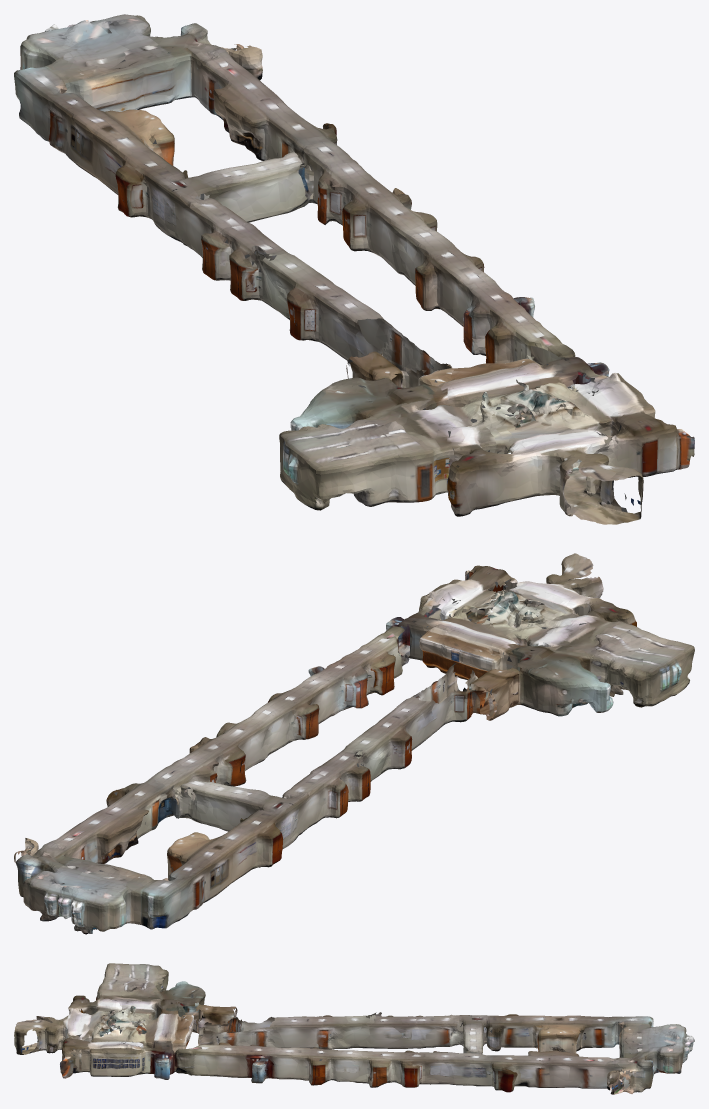
The model's file is Scaniverse_2023_10_03_164351.obj.
3 views of the same model, one above another, from view 1: azimuth 30°, elevation 25°; view 2: azimuth 150°, elevation 25°; view 3: azimuth 270°, elevation 25° (orthographic). The views are drawn at different scales.
Parts seen in each view (by area): view 1: mesh; view 2: mesh; view 3: mesh.
Part boxes in pixels (x1,y1,x2,y2): mesh: (14,14,694,524); mesh: (14,553,694,934); mesh: (14,963,694,1094).
Size of the model in its own units: 25.39 by 4.3 by 67.01.
Materials: 1 (1 with a texture image).
